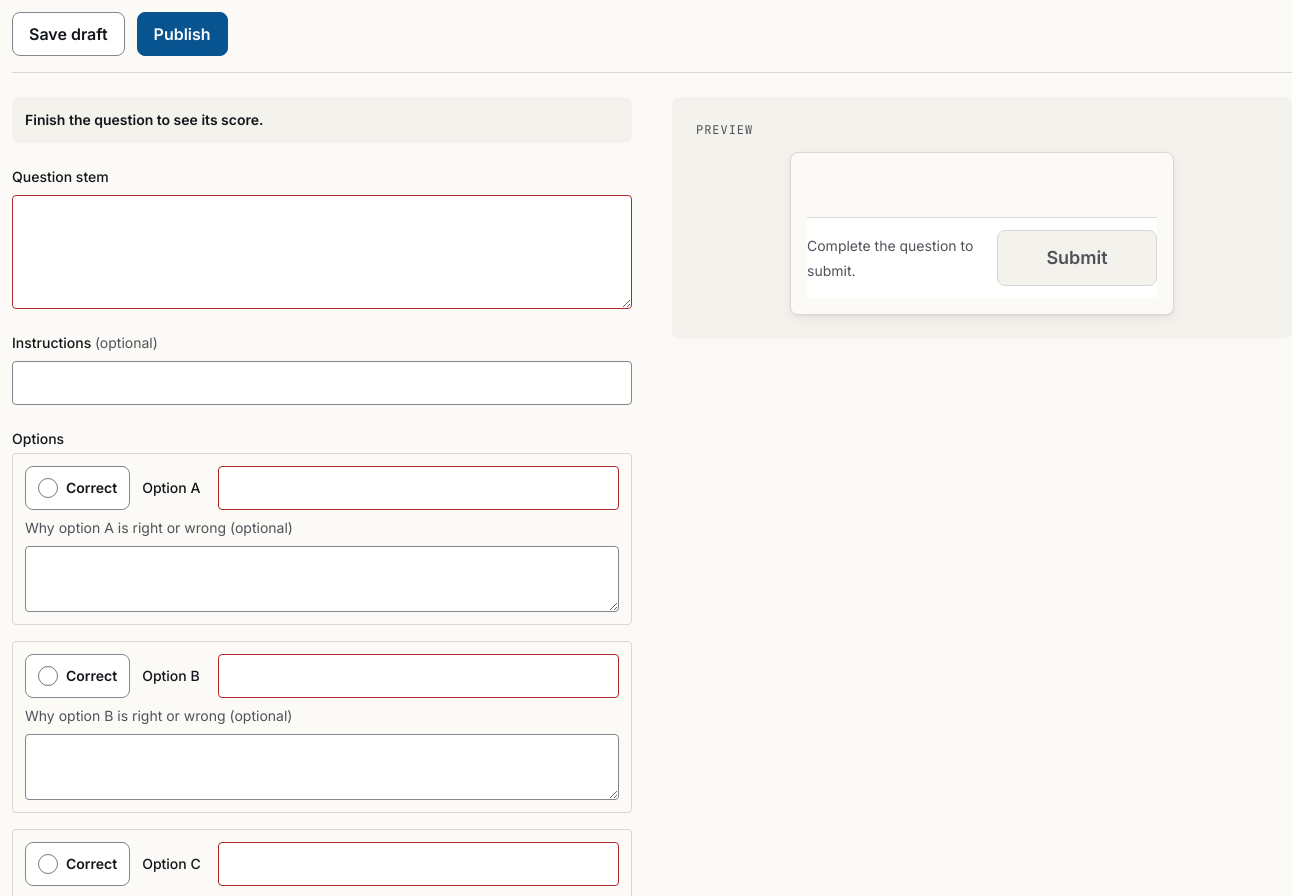
it: MultipleChoiceEditor › saves a draft even when the item is incomplete, and never publishes it
Type "Half written" into the text box labelled "Question stem" at (322, 252), box [12,195,632,309]
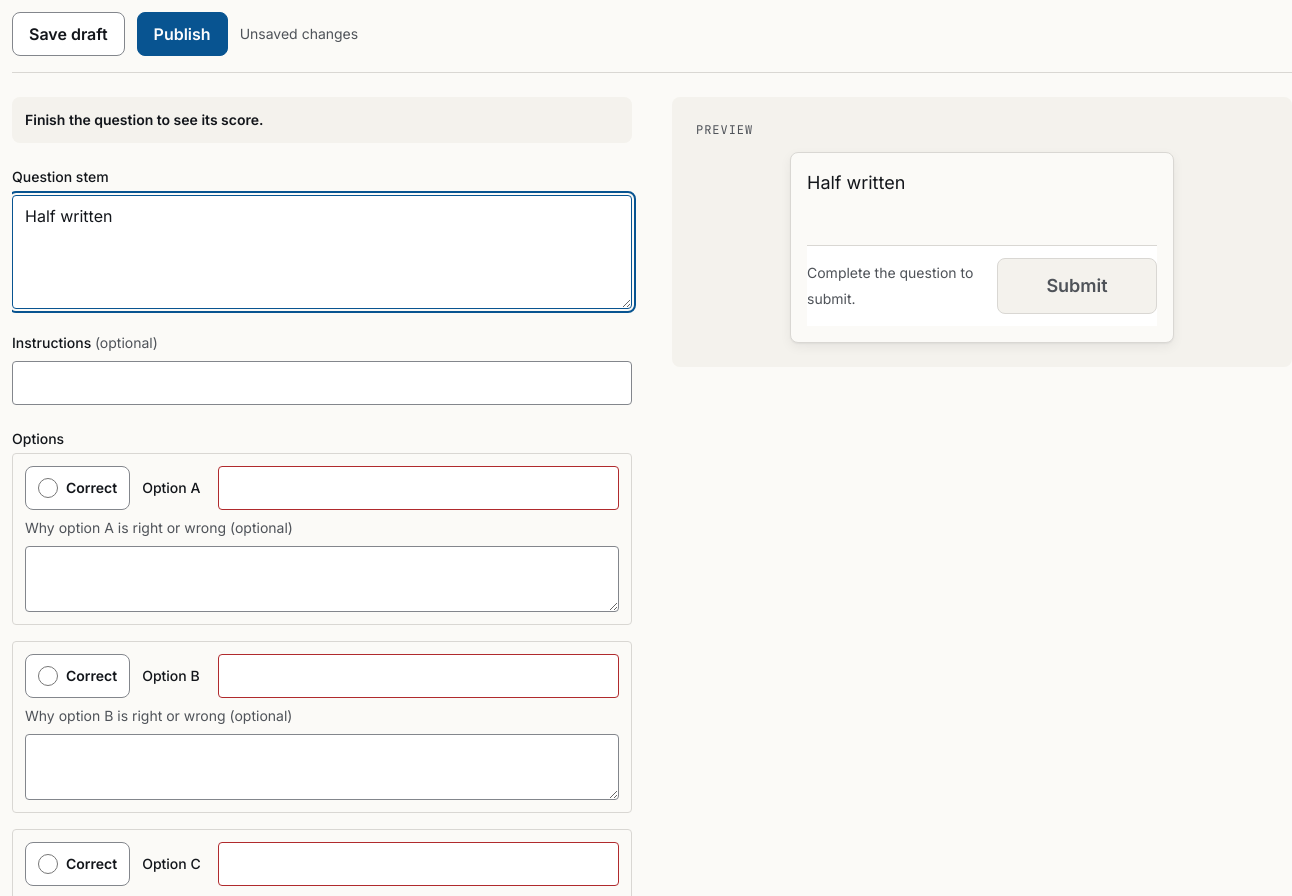
Click the button "Save draft" at (68, 34), box [12,12,125,56]
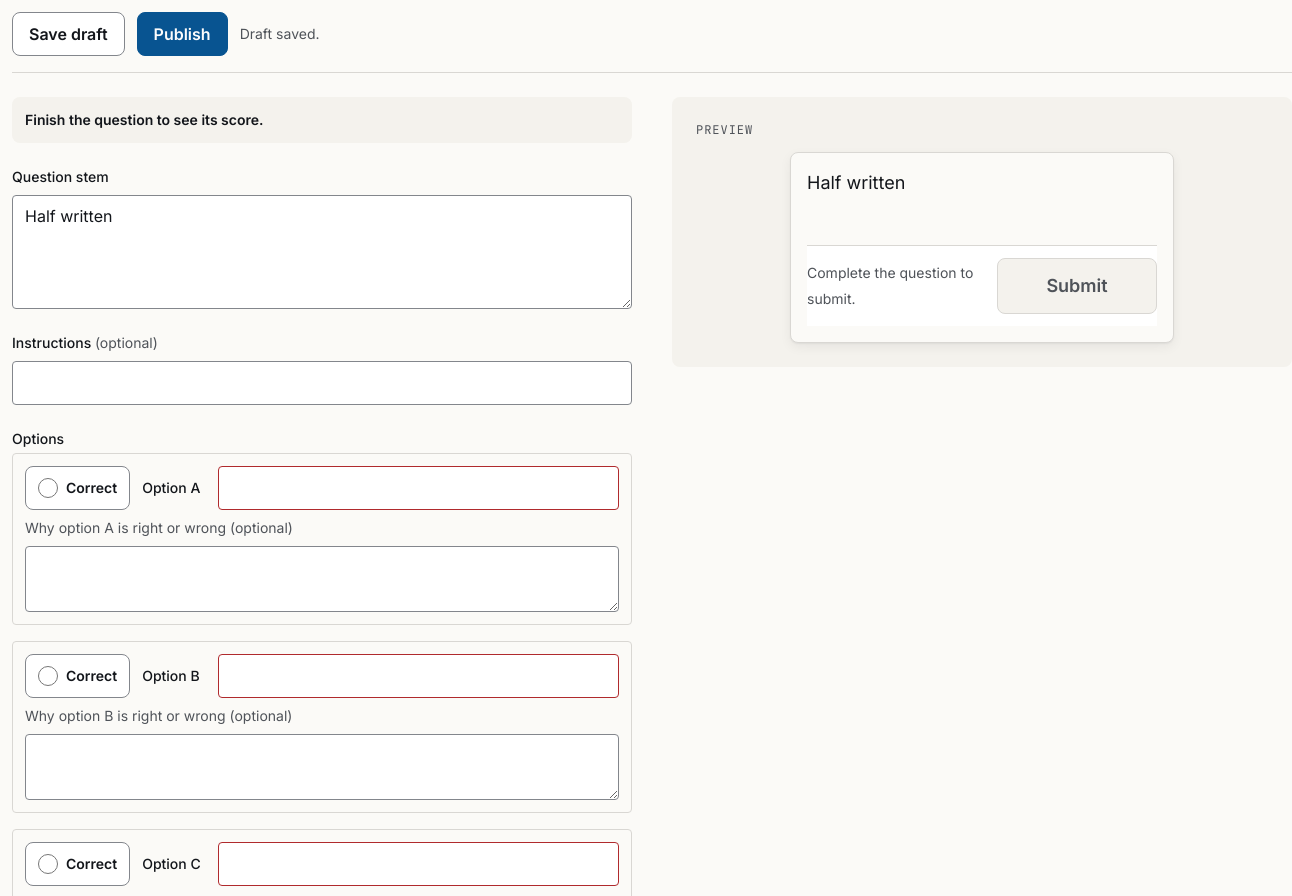
Result: the message reads "Draft saved." at [240,25,320,42]
